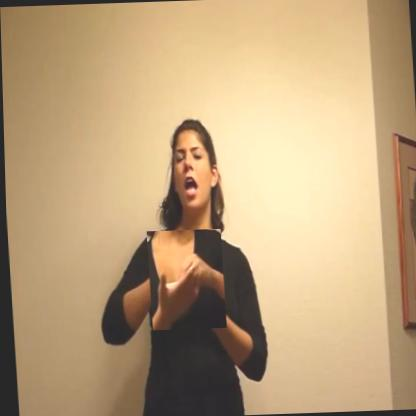Expensive: (146, 228, 225, 330)
